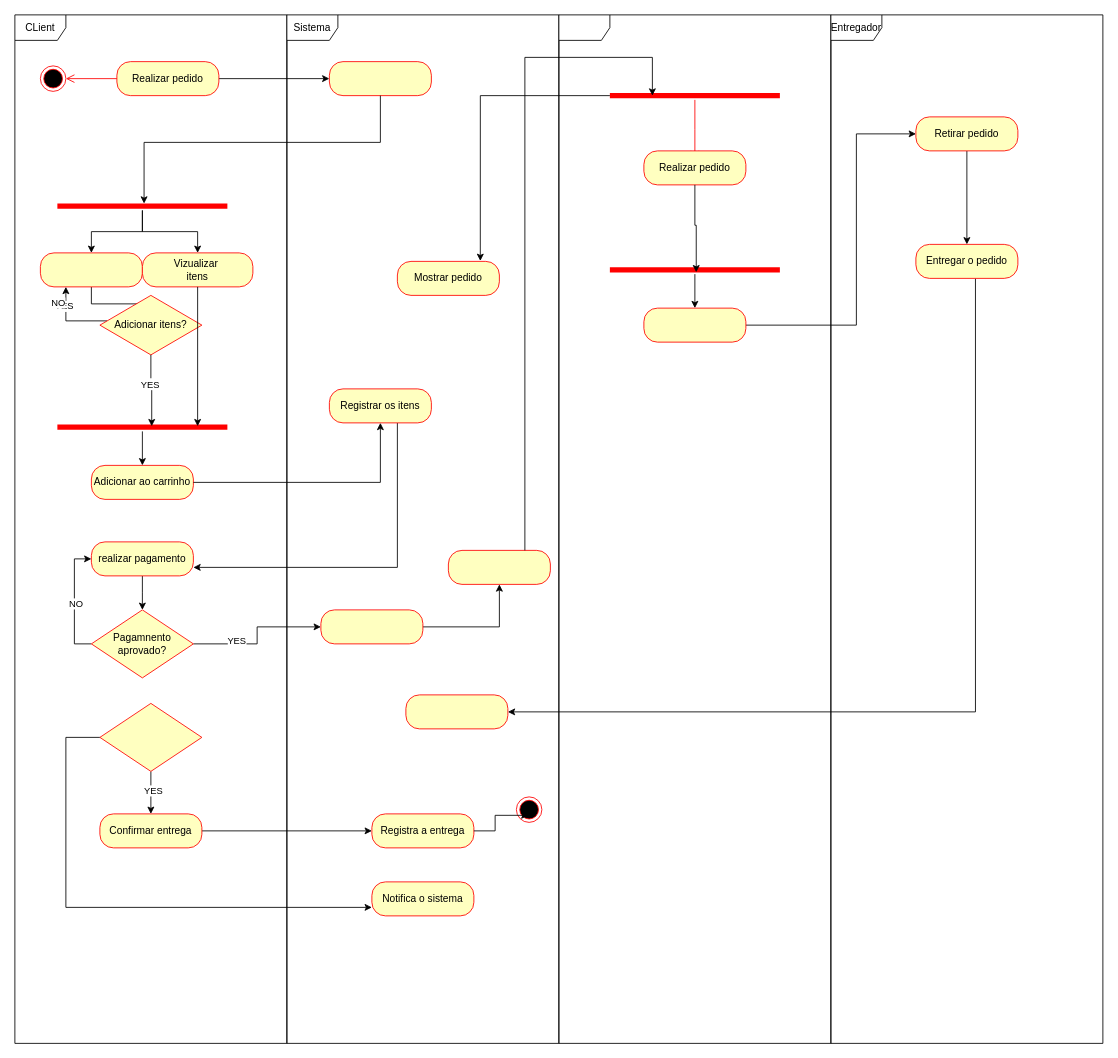
The diagram is 1118 pixels wide and 1058 high, and some of its shapes have lost their labels. The shapes that lost their labels are listed below. From the top down, each one's box as (x1, y1, x2, y2) in pixels, then its label:
(329, 61, 431, 96): Cardápio
(40, 252, 142, 287): Selecionar itens
(643, 307, 746, 342): pedido autorizado
(558, 14, 831, 1043): Cozinha
(448, 550, 550, 584): Confirmar pedido
(320, 609, 423, 644): Registra o pagamento
(405, 694, 508, 729): rastreia a entrega
(99, 703, 202, 771): Entrega realizada com sucesso?
